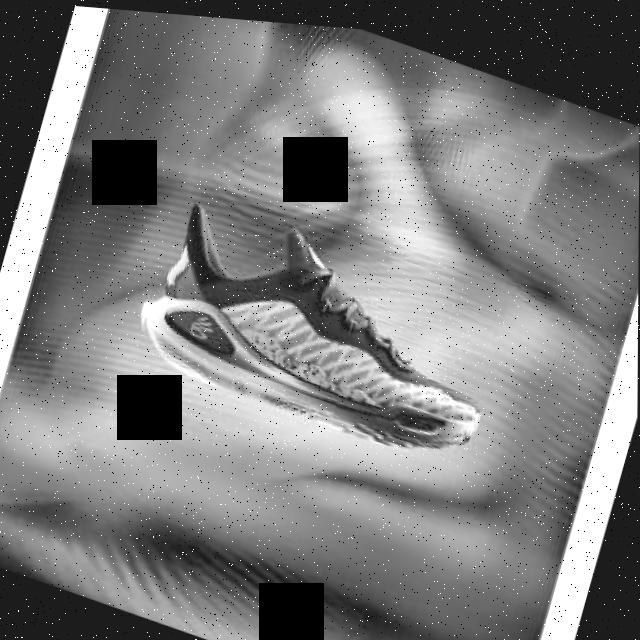shoe: (128, 178, 509, 468)
